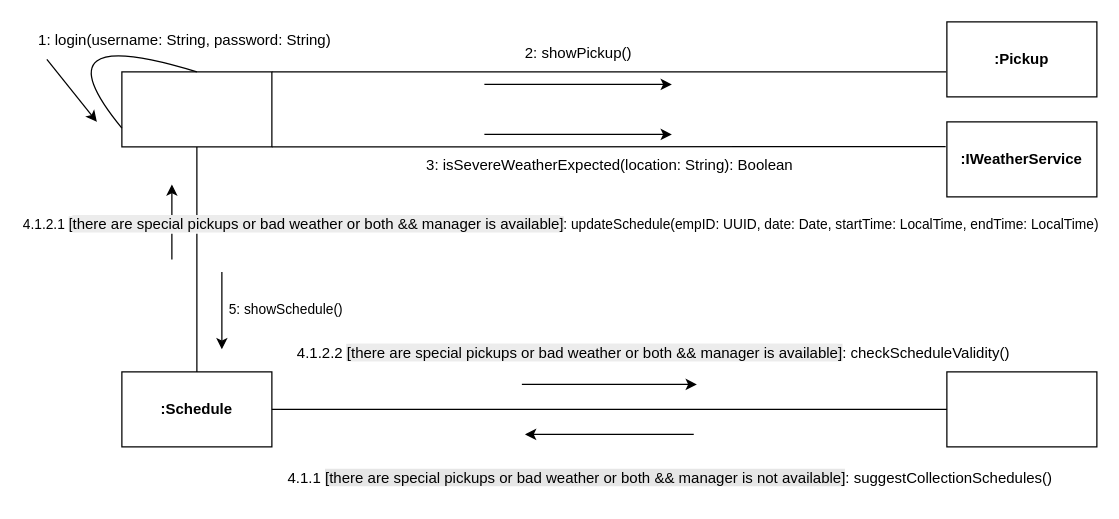
The diagram is 1119 pixels wide and 519 high, and some of its shapes have lost their labels. The centre of each missing label's shape, as x and y in pixels:
":Company_Manager" goes at (196,109).
":Schedule_Planner" goes at (1021,409).
